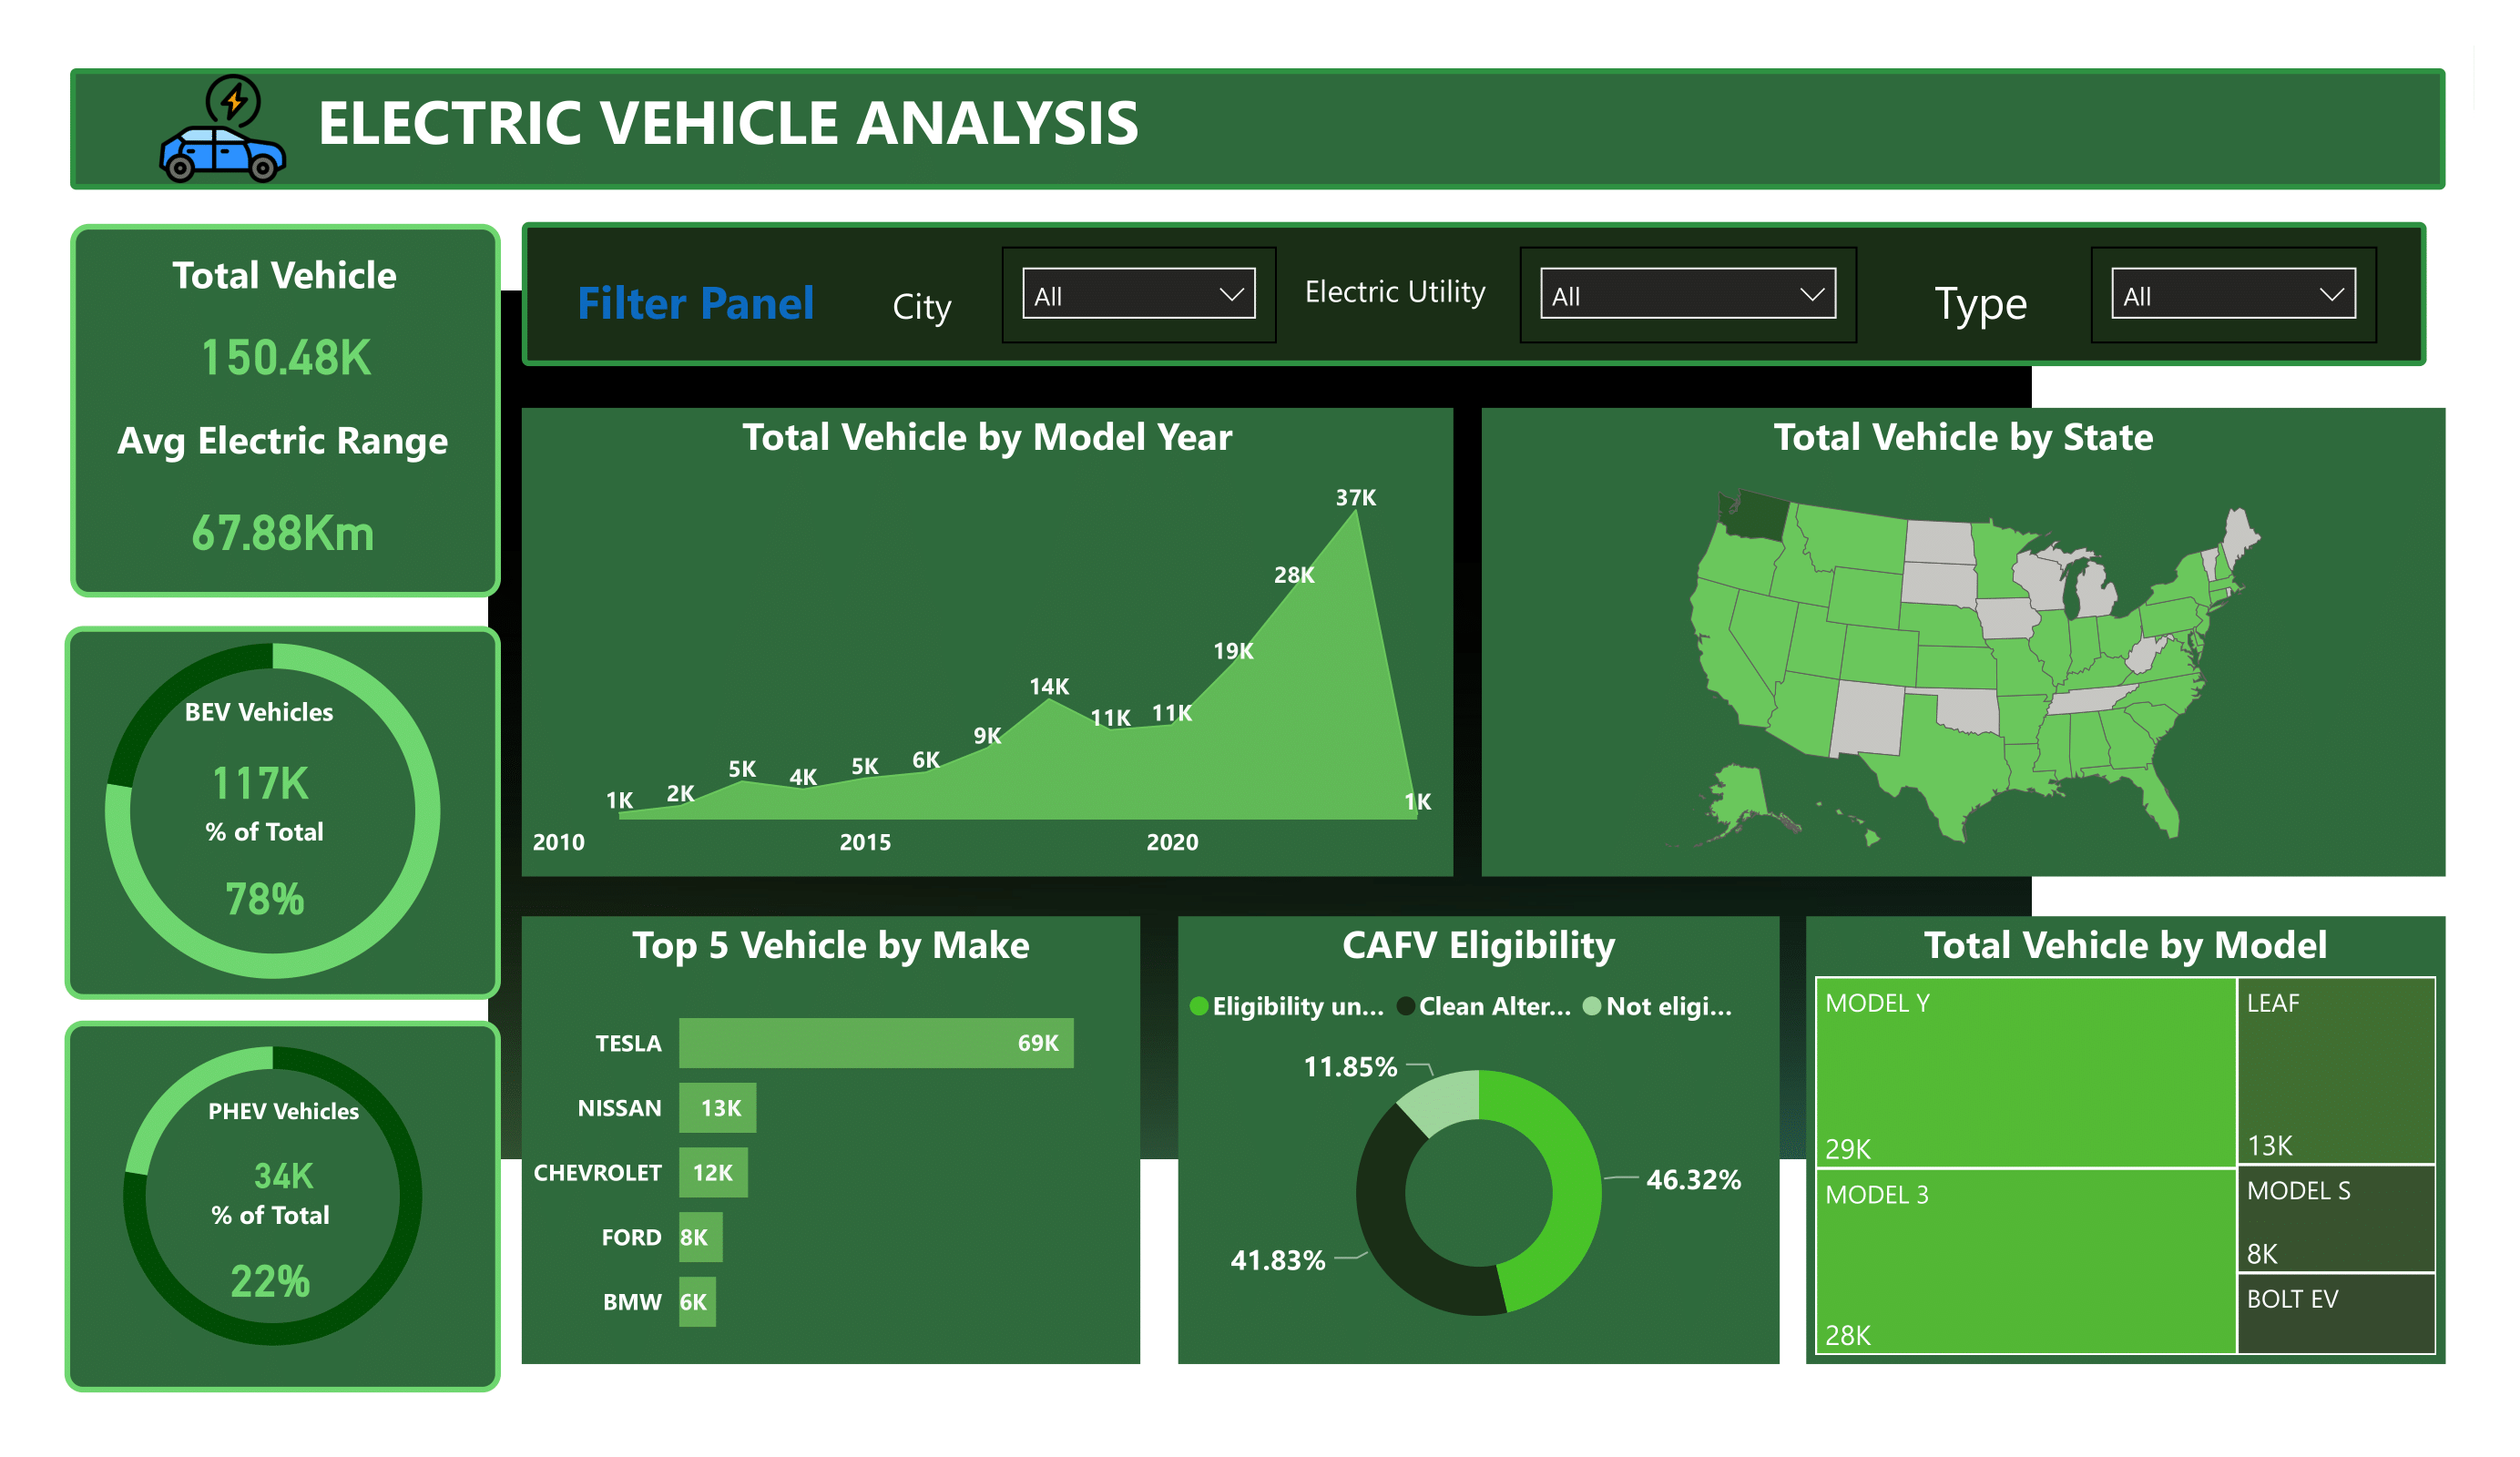

The page's visual inventory and layout, read from the dashboard file:
{"tool":"powerbi","page":{"name":"home","canvas":[1280,720],"ordinal":0},"visuals":[{"type":"shape","box":[13.4,11.8,1251.4,63.8],"z":0},{"type":"textbox","box":[138.3,11.8,458.7,64.1],"z":1000},{"type":"shape","box":[12.8,93.5,226.8,197],"z":2000},{"type":"card","title":"Total Vehicle","fields":{"Values":["Electric_Vehicle_Population_Data.Total_EV_Registered"]},"box":[26.9,106.3,198.4,86.5],"z":3000},{"type":"card","title":"Avg Electric Range","fields":{"Values":["Electric_Vehicle_Population_Data.avg electric vehicle"]},"box":[25.5,192.8,198.4,97.8],"z":4000},{"type":"shape","box":[9.9,306.1,229.6,197],"z":5000},{"type":"shape","box":[9.9,514.5,229.6,195.6],"z":6000},{"type":"donutChart","fields":{"Y":["Electric_Vehicle_Population_Data.Total_EV_Registered"],"Category":["Electric_Vehicle_Population_Data.Electric Vehicle Type"]},"box":[0,288.4,239.5,231],"z":7000},{"type":"card","title":"BEV Vehicles","fields":{"Values":["Electric_Vehicle_Population_Data.bev_vehicles"]},"box":[31.2,341.6,163,75.1],"z":8000},{"type":"card","title":"% of Total","fields":{"Values":["Electric_Vehicle_Population_Data.% of bev"]},"box":[31.2,405.4,168.7,70.9],"z":9000},{"type":"donutChart","fields":{"Y":["Electric_Vehicle_Population_Data.Total_EV_Registered"],"Category":["Electric_Vehicle_Population_Data.Electric Vehicle Type"]},"box":[0,503.1,239.5,206.9],"z":10000},{"type":"card","title":"PHEV Vehicles","fields":{"Values":["Electric_Vehicle_Population_Data.phev_vehicles"]},"box":[43.9,552.8,163,75.1],"z":11000},{"type":"card","title":"% of Total","fields":{"Values":["Electric_Vehicle_Population_Data.% of phev"]},"box":[36.9,606.6,163,75.1],"z":12000},{"type":"areaChart","title":"Total Vehicle by Model Year","fields":{"Y":["Divide(Electric_Vehicle_Population_Data.Total_EV_Registered, ScopedEval(Electric_Vehicle_Population_Data.Total_EV_Regist"],"Category":["Electric_Vehicle_Population_Data.Model Year"]},"box":[251.3,190.6,490.8,247.9],"z":13000},{"type":"clusteredBarChart","title":"Top 5 Vehicle by Make","fields":{"Category":["Electric_Vehicle_Population_Data.Make"],"Y":["Electric_Vehicle_Population_Data.Total_EV_Registered"]},"box":[251.3,458.7,325.5,236.1],"z":14000},{"type":"shapeMap","title":"Total Vehicle by State","fields":{"Category":["Electric_Vehicle_Population_Data.State"],"Value":["Electric_Vehicle_Population_Data.Total_EV_Registered"]},"box":[757.2,190.6,507.6,247.9],"z":15000},{"type":"shape","box":[251.3,92.8,1003.4,75.9],"z":16000},{"type":"donutChart","title":"CAFV Eligibility","fields":{"Category":["Electric_Vehicle_Population_Data.Clean Alternative Fuel Vehicle (CAFV) Eligibility"],"Y":["Electric_Vehicle_Population_Data.Total_EV_Registered"]},"box":[597,458.7,317,236.1],"z":17000},{"type":"treemap","title":"Total Vehicle by Model","fields":{"Values":["Electric_Vehicle_Population_Data.Total_EV_Registered"],"Group":["Electric_Vehicle_Population_Data.Model"]},"box":[927.5,458.7,337.3,236.1],"z":17001},{"type":"textbox","box":[274.9,113,155.2,50.6],"z":17002},{"type":"slicer","fields":{"Values":["Electric_Vehicle_Population_Data.City"]},"box":[504.2,106.2,145,50.6],"z":17003},{"type":"textbox","box":[414.9,113,106.2,72.5],"z":17004},{"type":"slicer","fields":{"Values":["Electric_Vehicle_Population_Data.Electric Utility"]},"box":[777.4,106.2,177.1,50.6],"z":17005},{"type":"textbox","box":[640.8,113,226,55.7],"z":17006},{"type":"slicer","fields":{"Values":["Electric_Vehicle_Population_Data.Vehicle Type"]},"box":[1077.6,106.2,151.8,50.6],"z":17007},{"type":"textbox","box":[971.4,113,106.2,57.3],"z":17008},{"type":"image","box":[1.7,3.4,182.1,80.9],"z":17009}]}

Visuals, with their boxes on the page's 1280x720 design canvas (x1, y1, x2, y2). These are canvas units, not pixel positions in the 2520x1457 screenshot, which may show the page scaled, cropped or inside an application window:
shape: select_region(13, 12, 1265, 76)
textbox: select_region(138, 12, 597, 76)
shape: select_region(13, 94, 240, 290)
"Total Vehicle" card: select_region(27, 106, 225, 193)
"Avg Electric Range" card: select_region(26, 193, 224, 291)
shape: select_region(10, 306, 240, 503)
shape: select_region(10, 514, 240, 710)
donutChart - Electric_Vehicle_Population_Data.Total_EV_Registered x Electric_Vehicle_Population_Data.Electric Vehicle Type: select_region(0, 288, 240, 519)
"BEV Vehicles" card: select_region(31, 342, 194, 417)
"% of Total" card: select_region(31, 405, 200, 476)
donutChart - Electric_Vehicle_Population_Data.Total_EV_Registered x Electric_Vehicle_Population_Data.Electric Vehicle Type: select_region(0, 503, 240, 710)
"PHEV Vehicles" card: select_region(44, 553, 207, 628)
"% of Total" card: select_region(37, 607, 200, 682)
"Total Vehicle by Model Year" areaChart: select_region(251, 191, 742, 438)
"Top 5 Vehicle by Make" clusteredBarChart: select_region(251, 459, 577, 695)
"Total Vehicle by State" shapeMap: select_region(757, 191, 1265, 438)
shape: select_region(251, 93, 1255, 169)
"CAFV Eligibility" donutChart: select_region(597, 459, 914, 695)
"Total Vehicle by Model" treemap: select_region(928, 459, 1265, 695)
textbox: select_region(275, 113, 430, 164)
slicer - Electric_Vehicle_Population_Data.City: select_region(504, 106, 649, 157)
textbox: select_region(415, 113, 521, 186)
slicer - Electric_Vehicle_Population_Data.Electric Utility: select_region(777, 106, 954, 157)
textbox: select_region(641, 113, 867, 169)
slicer - Electric_Vehicle_Population_Data.Vehicle Type: select_region(1078, 106, 1229, 157)
textbox: select_region(971, 113, 1078, 170)
image: select_region(2, 3, 184, 84)
